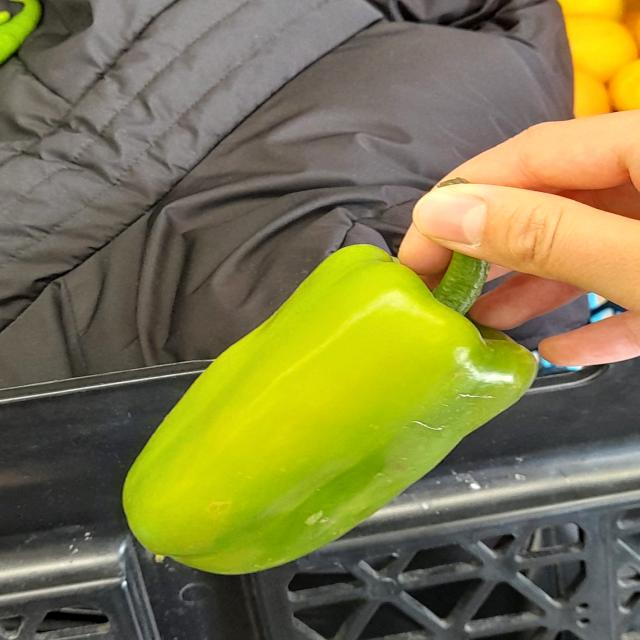bell pepper: (111, 211, 562, 574)
